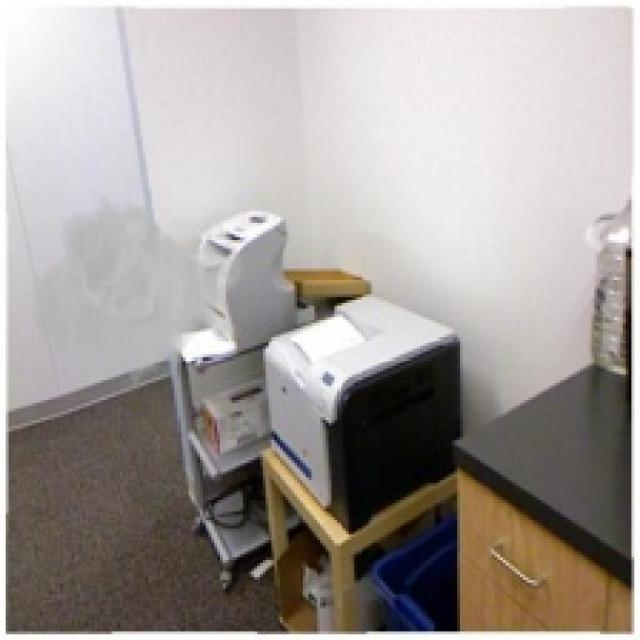Smoke: (31, 194, 246, 397)
